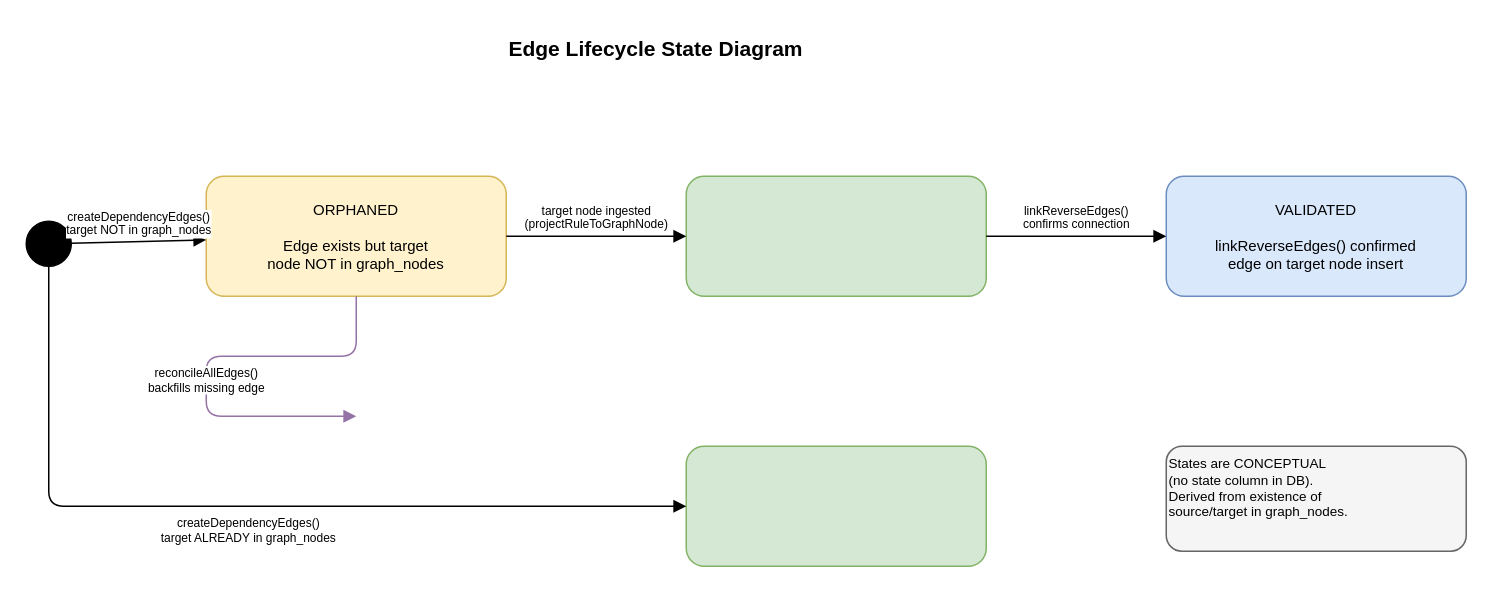
Image size: 1493x593. Some labels were removed from this diagram. The box of each missing label's shape, as (x1, y1, x2, y2) in pixels:
DIRECT Edge created when both source and target already exist: (685, 445, 986, 566)
RESOLVED Both source and target nodes exist in graph_nodes: (685, 175, 986, 296)
